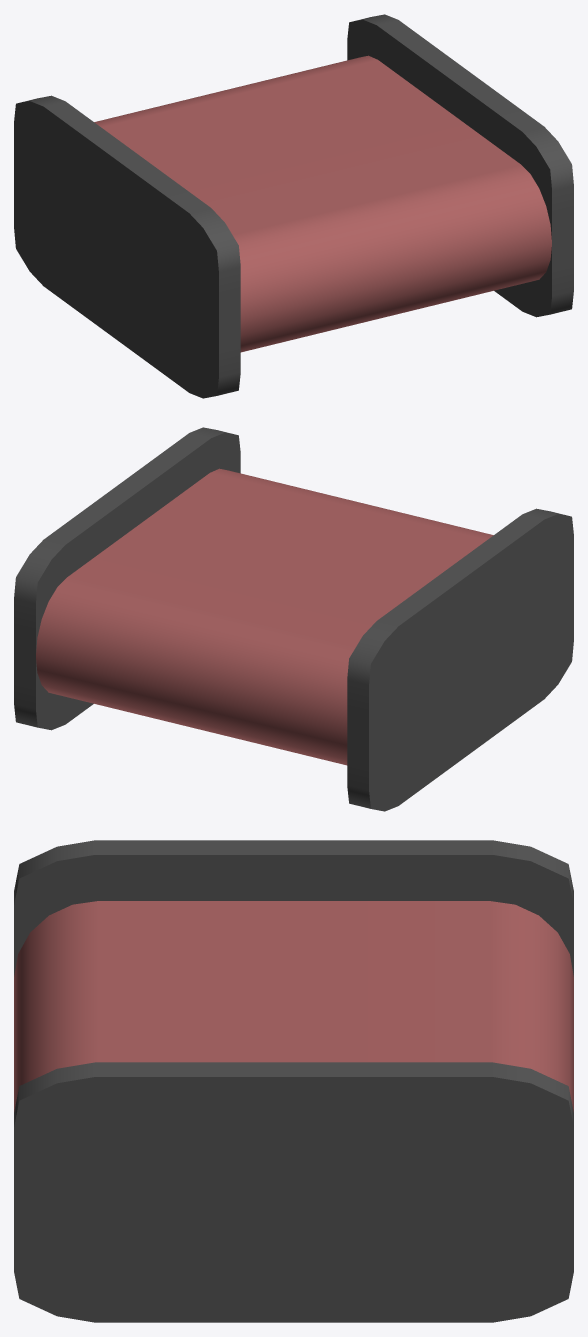
Rendered from SM_ConveyorBelt_Forward.fbx.
3 views of the same model, one above another, from view 1: azimuth 30°, elevation 25°; view 2: azimuth 150°, elevation 25°; view 3: azimuth 270°, elevation 25° (orthographic). The views are drawn at different scales.
Visible parts, largest first — view 1: pCube1; view 2: pCube1; view 3: pCube1.
Part boxes in pixels (box(x1,y1,x2,y2)): pCube1: box(14, 14, 573, 398); pCube1: box(14, 427, 573, 811); pCube1: box(14, 840, 573, 1322).
Bounding box in the file's own units: 1 × 0.4839 × 1.
